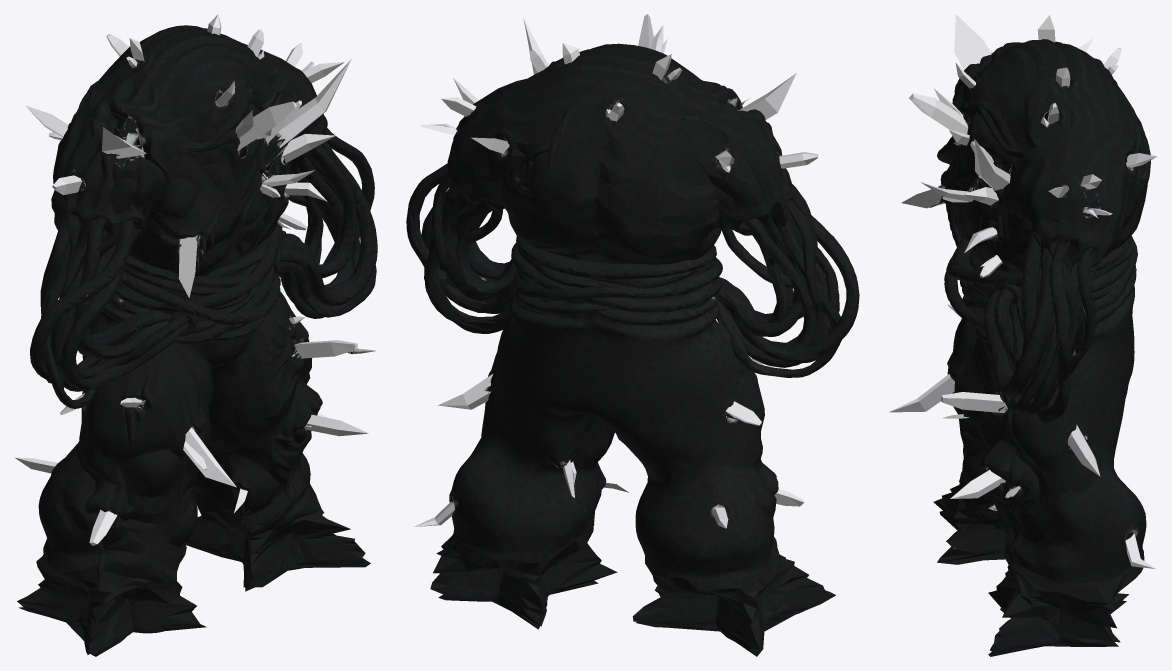
The model's file is impaled.glb.
The picture shows the model from 3 angles, left to right: view 1: azimuth 30°, elevation 25°; view 2: azimuth 150°, elevation 25°; view 3: azimuth 270°, elevation 25°; orthographic projection. The views are drawn at different scales.
Parts seen in each view (by area): view 1: body, shards; view 2: body, shards; view 3: body, shards.
Part boxes in pixels (x1,y1,x2,y2): body: [17, 25, 377, 656]; shards: [15, 14, 368, 545]; body: [406, 43, 859, 656]; shards: [414, 14, 818, 528]; body: [930, 39, 1150, 656]; shards: [889, 14, 1156, 568].
Size of the model in its own units: 1.35 by 1.84 by 0.8225.
Materials: 2 (1 with a texture image).
